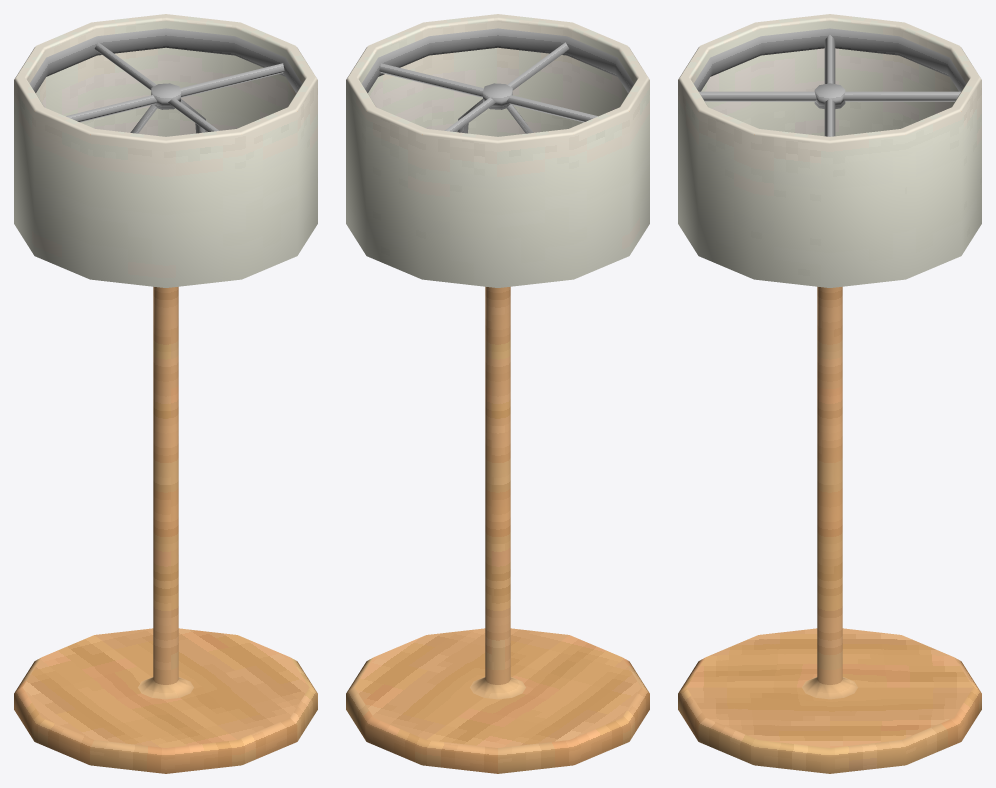
File: rmk_smp_lamp.dae
The picture shows the model from 3 angles, left to right: view 1: azimuth 30°, elevation 25°; view 2: azimuth 150°, elevation 25°; view 3: azimuth 270°, elevation 25°; orthographic projection.
Parts seen in each view (by area): view 1: rmk_smp_lamp; view 2: rmk_smp_lamp; view 3: rmk_smp_lamp.
Part boxes in pixels (x1,y1,x2,y2): rmk_smp_lamp: (14, 14, 317, 773); rmk_smp_lamp: (346, 14, 649, 773); rmk_smp_lamp: (678, 14, 981, 773).
Bounding box in the file's own units: 19.78 × 45.46 × 19.78.
Materials: 1 (1 with a texture image).
